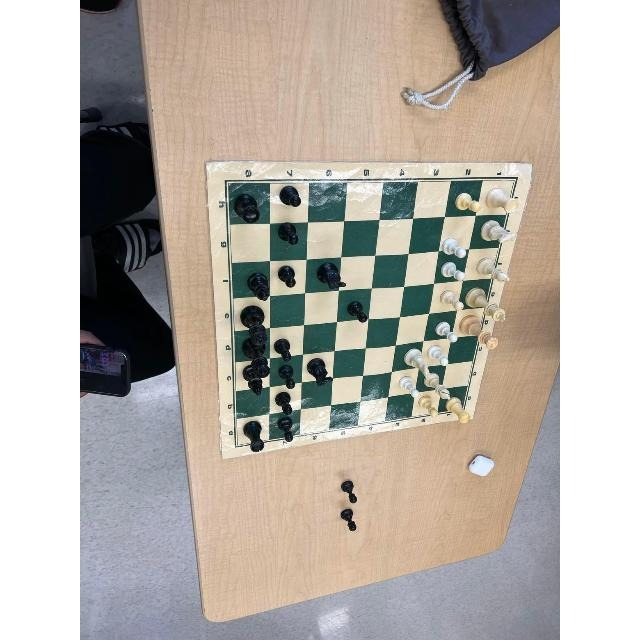black-bishop: (241, 364, 268, 396), (245, 271, 272, 302)
black-king: (239, 304, 269, 348)
black-knight: (315, 260, 351, 291), (305, 357, 337, 389)
black-pawn: (276, 219, 303, 251), (275, 417, 302, 443), (344, 299, 372, 323), (272, 336, 296, 363), (278, 364, 302, 390), (274, 389, 296, 416), (278, 264, 296, 289)
black-queen: (241, 336, 275, 379)
black-rook: (231, 190, 263, 225), (242, 419, 268, 457), (278, 184, 306, 209)
white-bishop: (475, 257, 513, 285), (424, 372, 452, 400)
white-king: (465, 286, 509, 324)
white-knight: (479, 217, 518, 246), (403, 347, 433, 379)
white-pawn: (439, 260, 467, 284), (455, 191, 483, 215), (439, 287, 465, 311), (426, 344, 452, 367), (398, 374, 421, 399), (442, 237, 468, 259), (435, 322, 459, 344), (418, 395, 439, 417)
white-queen: (459, 314, 500, 352)
white-rook: (485, 186, 521, 215), (444, 396, 472, 425)
